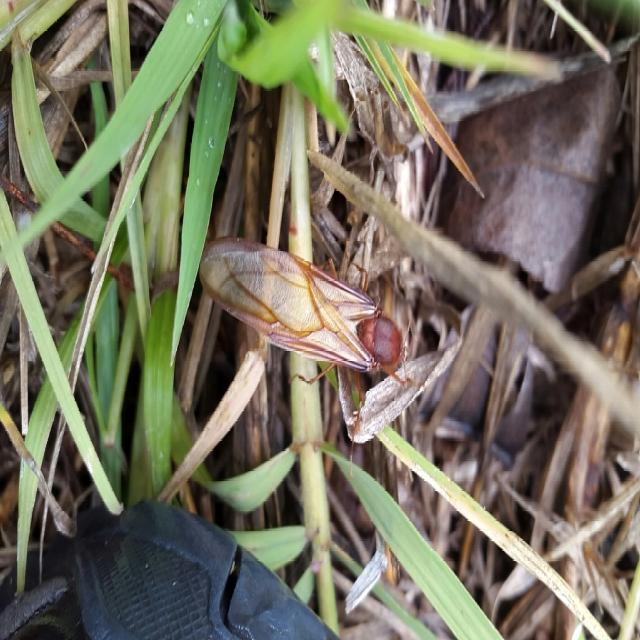Alive-Male-Alate: (199, 235, 414, 480)
